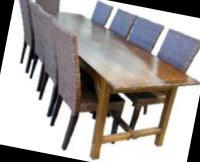Mesa: (2, 4, 199, 161)
Silla: (32, 21, 137, 160), (14, 4, 119, 128), (106, 19, 199, 140), (94, 10, 166, 111), (4, 0, 84, 81), (85, 3, 137, 82), (69, 0, 117, 59), (25, 0, 69, 43)
